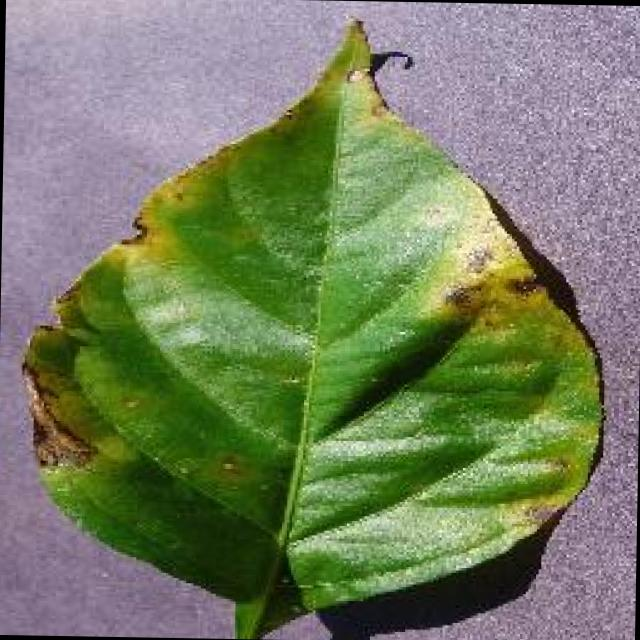Chilli_Bacterial_Spot: (12, 7, 615, 640), (15, 358, 100, 473), (440, 257, 551, 334), (364, 44, 415, 76), (500, 270, 543, 302), (458, 240, 494, 278), (337, 58, 378, 91), (212, 451, 243, 482), (342, 63, 369, 86)
